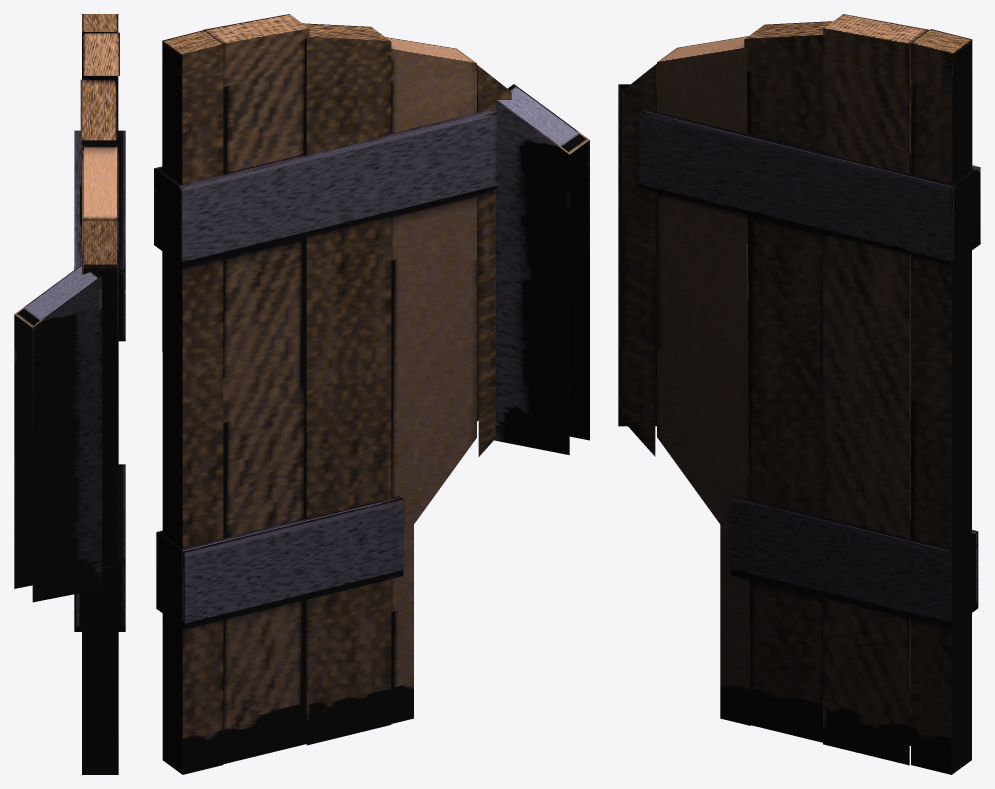
Rendered from DoorSide2F6.obj.
3 views of the same model, side by side, from view 1: azimuth 30°, elevation 25°; view 2: azimuth 150°, elevation 25°; view 3: azimuth 270°, elevation 25° (orthographic). The views are drawn at different scales.
Visible parts, largest first — view 1: DoorSide2F6_Cube.427; view 2: DoorSide2F6_Cube.427; view 3: DoorSide2F6_Cube.427.
Part boxes in pixels (<box>): DoorSide2F6_Cube.427: <box>14,14,125,774</box>; DoorSide2F6_Cube.427: <box>154,14,589,774</box>; DoorSide2F6_Cube.427: <box>618,14,980,774</box>.
Bounding box in the file's own units: 69.78 × 179 × 81.35.
1 material, 1 textured.
